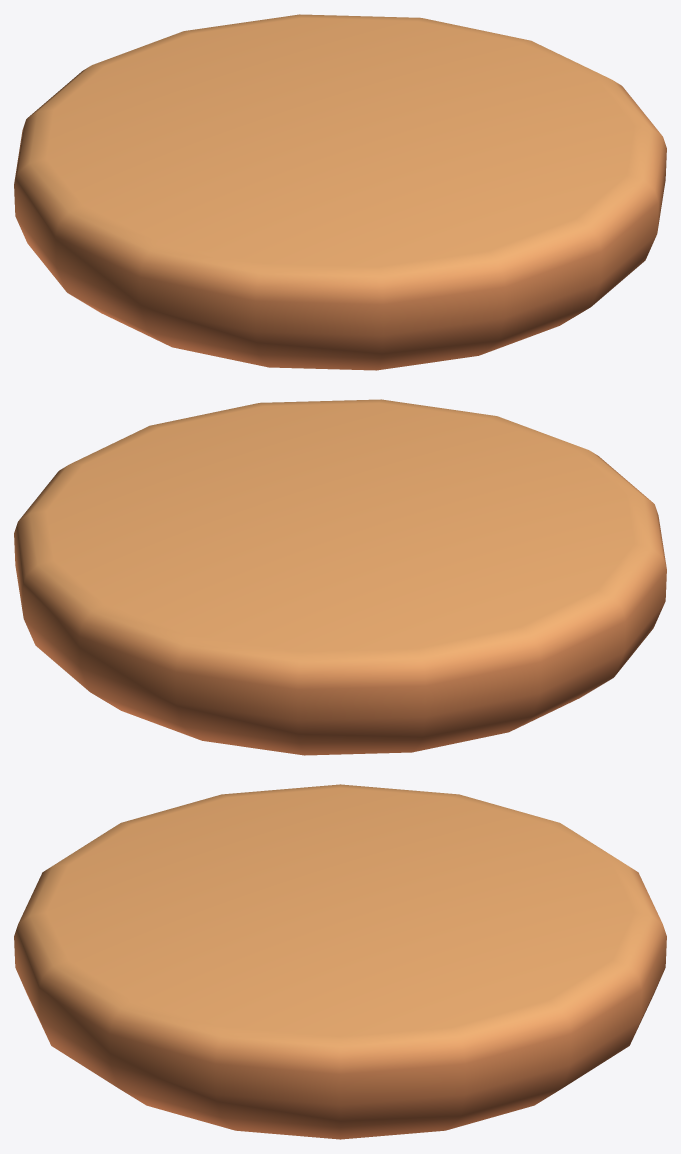
The model's file is Bread_Burger_Lower_V1_00.fbx.
3 views of the same model, one above another, from view 1: azimuth 30°, elevation 25°; view 2: azimuth 150°, elevation 25°; view 3: azimuth 270°, elevation 25° (orthographic).
Visible parts, largest first — view 1: Bread_Burger_Lower_V1_00; view 2: Bread_Burger_Lower_V1_00; view 3: Bread_Burger_Lower_V1_00.
Boxes of the visible parts, x1,y1,x2,y2 form: Bread_Burger_Lower_V1_00: (14, 14, 666, 370); Bread_Burger_Lower_V1_00: (14, 399, 666, 755); Bread_Burger_Lower_V1_00: (14, 784, 666, 1139).
Size of the model in its own units: 46.36 by 10.95 by 46.36.
